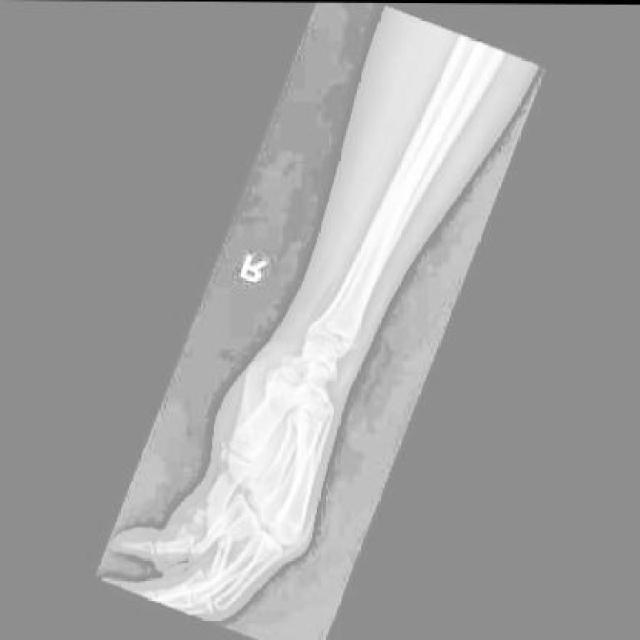Fracture: (211, 516, 250, 556), (202, 504, 239, 546)
